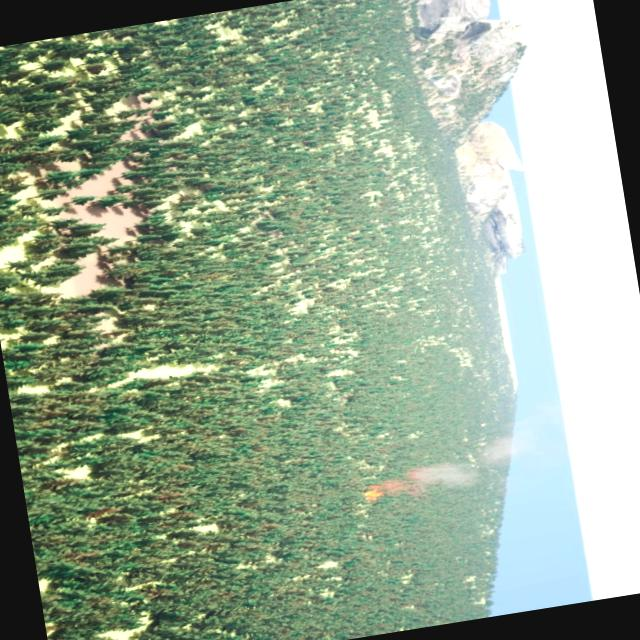fire: (361, 480, 388, 503)
smoke: (382, 419, 555, 502)
